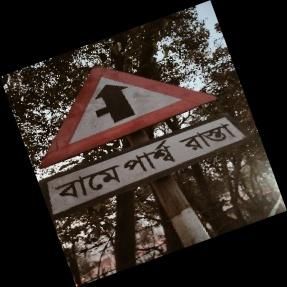Side-road-left: (35, 65, 249, 219)
